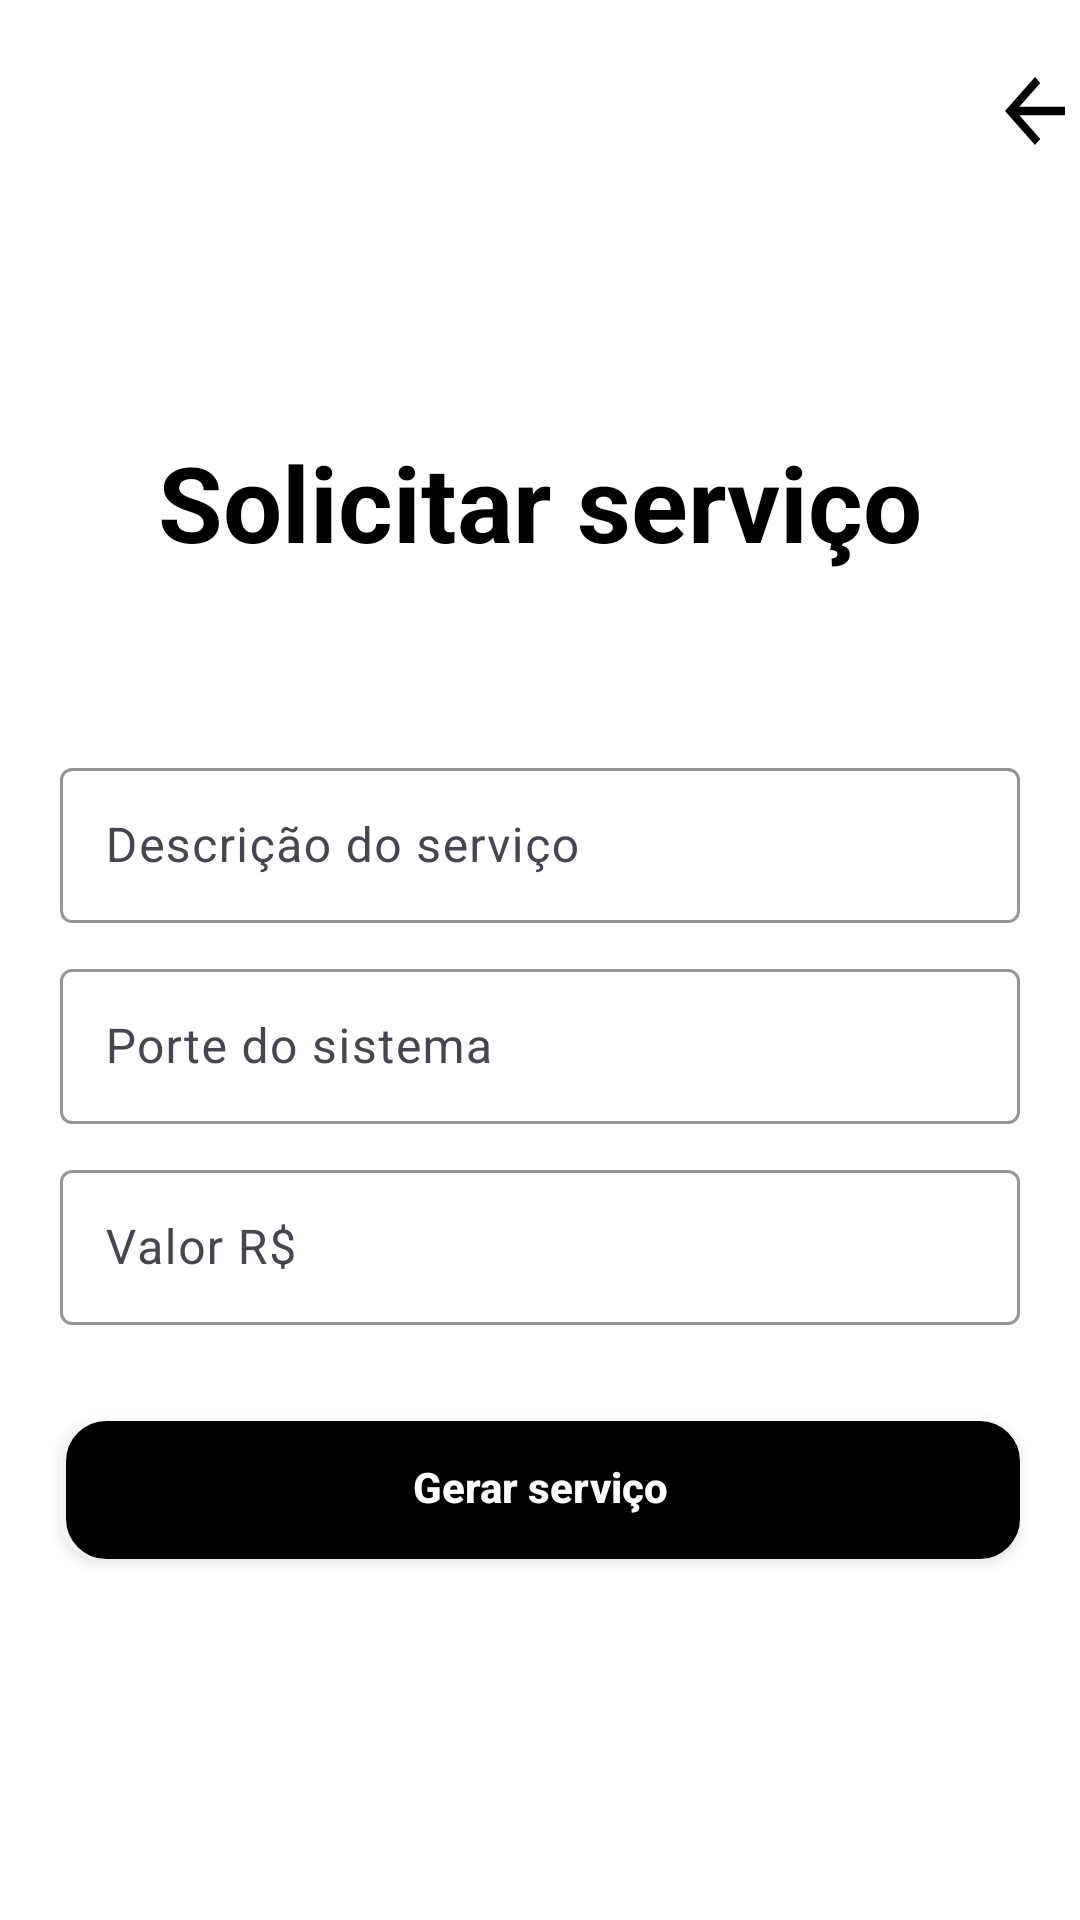

Icons on this 1080 x 1920 Android screen, each with its box as Rect(x1, y1, x2, y2):
voltar nav: Rect(1005, 77, 1065, 145)
